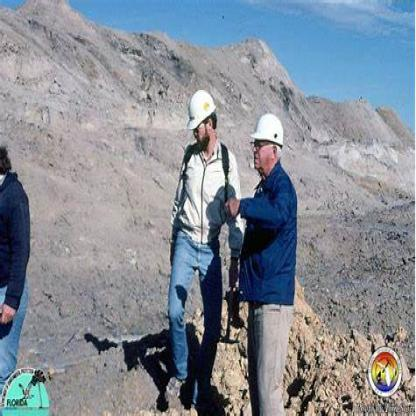person: (158, 65, 235, 415), (224, 102, 308, 411)
